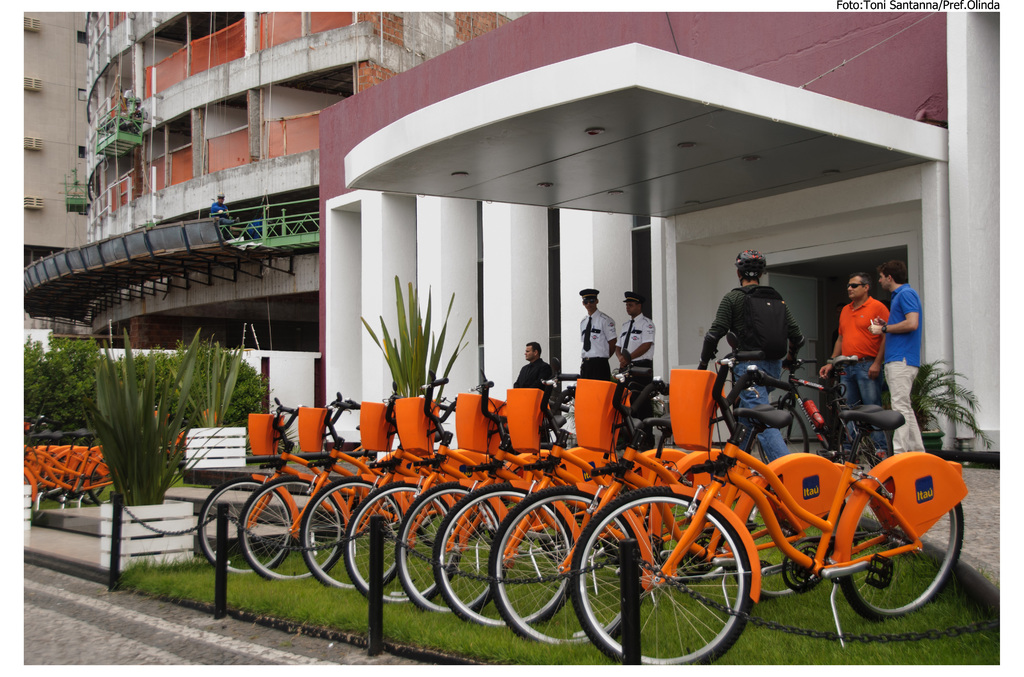Bicycle: (495, 363, 858, 643), (389, 362, 670, 617), (431, 369, 681, 634), (339, 367, 535, 607), (297, 373, 485, 604), (235, 380, 426, 587), (196, 394, 334, 575), (714, 357, 885, 472)
